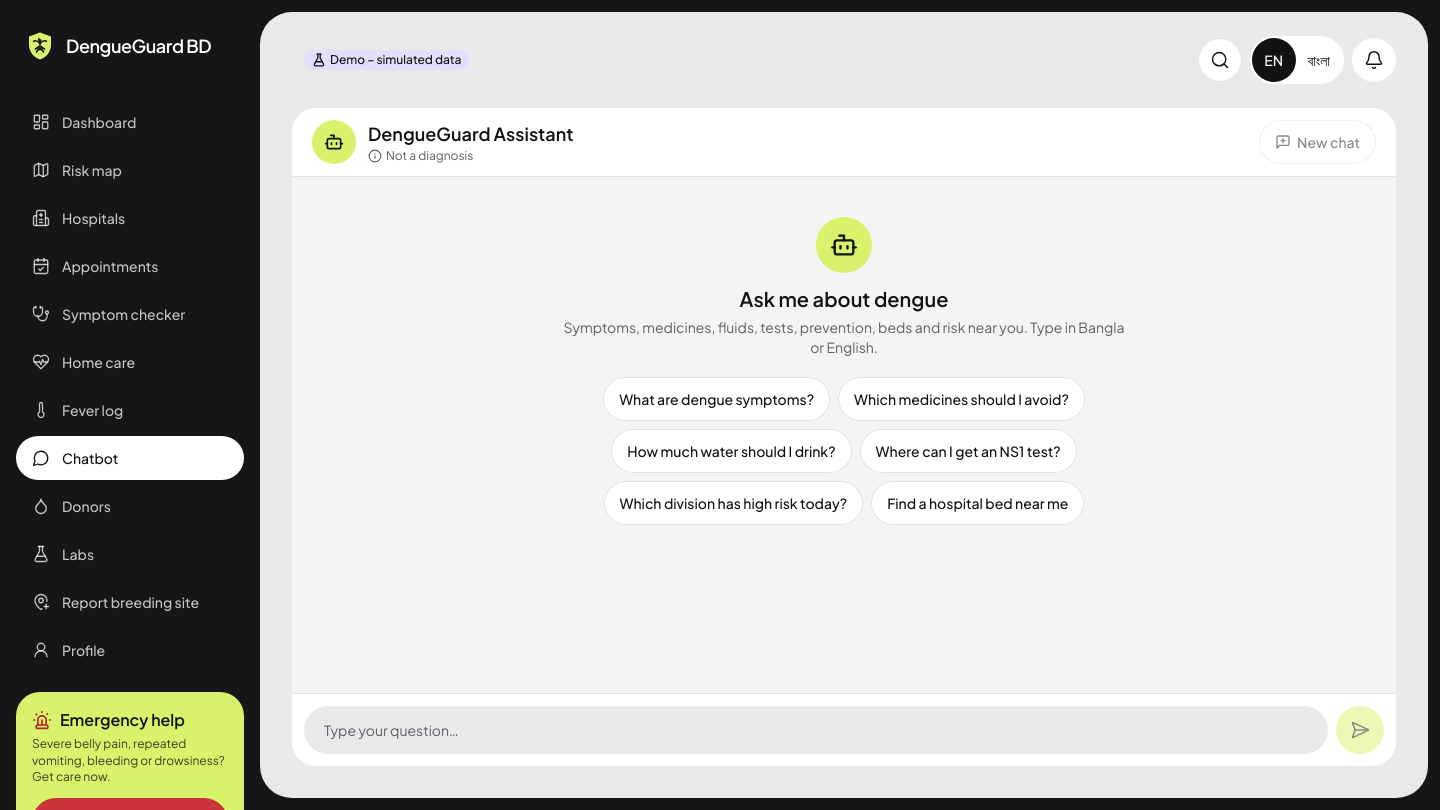
Test case: Chatbot (/chatbot) › shows Retry when the chat service fails
Type "What are dengue symptoms?" into the field labelled "your question" at (816, 730), box [304,706,1328,754]
Then press Enter
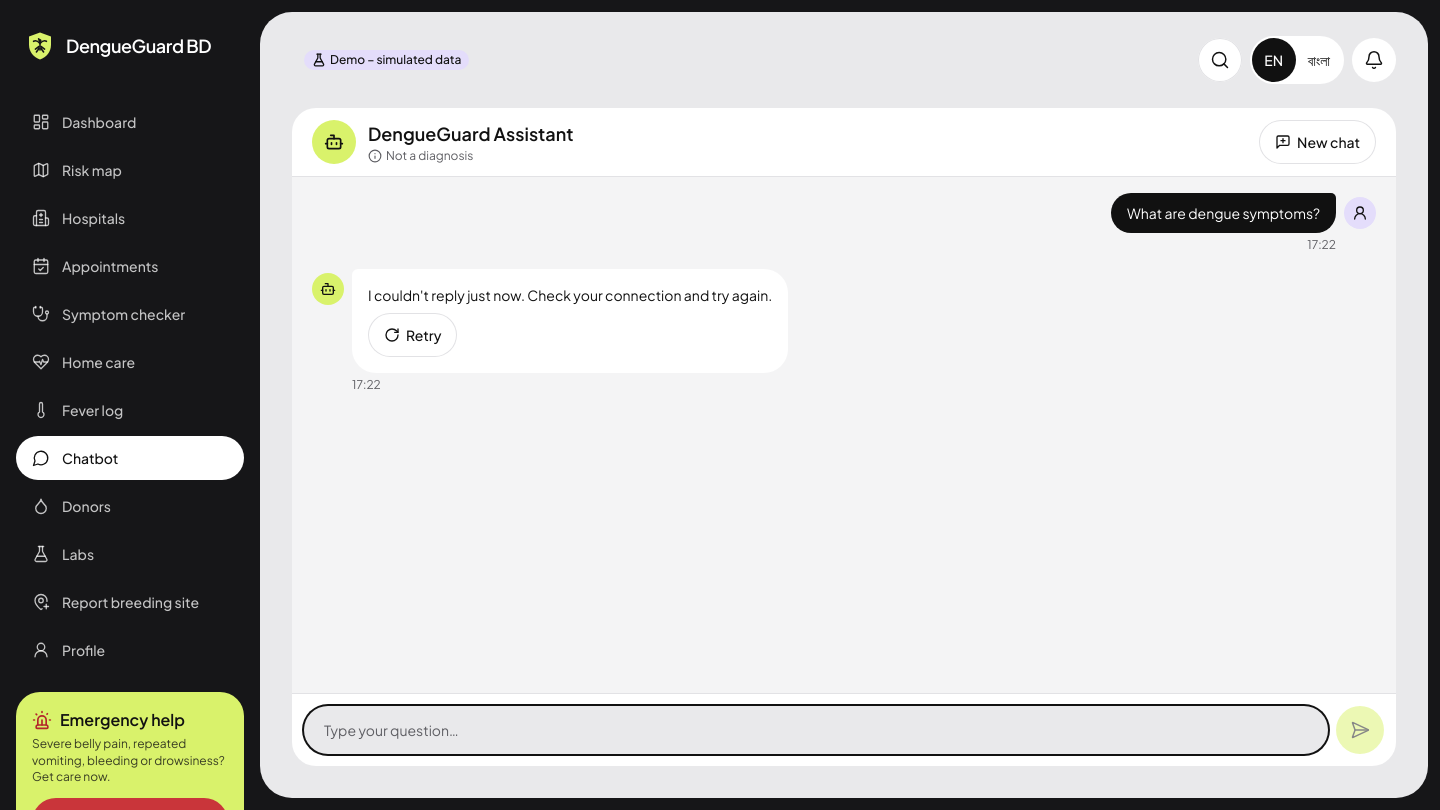
Check: the text "I couldn't reply just now" is shown, box [368,286,772,304]
Check: the button "Retry" is shown, box [368,313,457,357]
